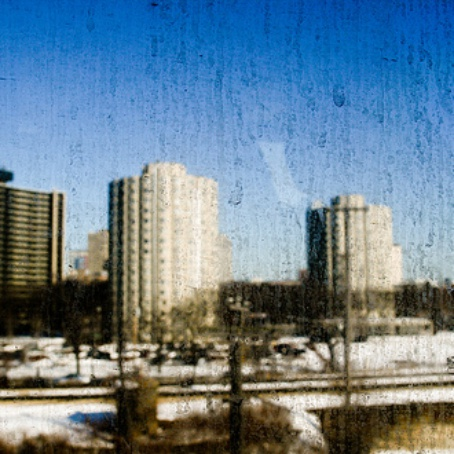building: (102, 167, 219, 326), (304, 182, 395, 301), (1, 174, 61, 295)
sky: (1, 1, 440, 267)
